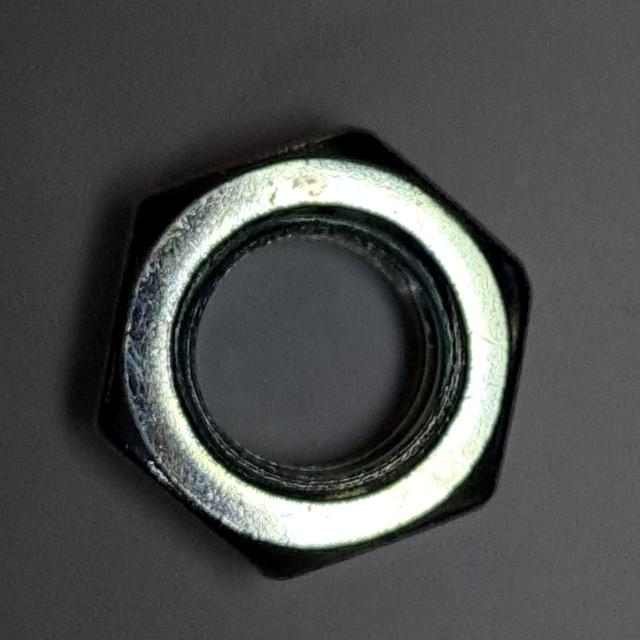Excellent: (83, 102, 544, 598)
